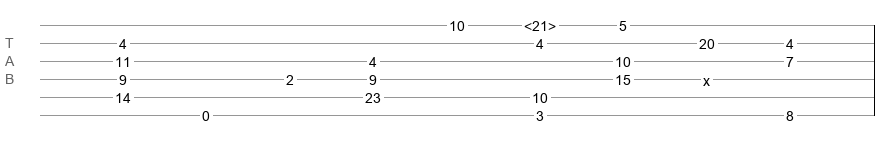0: (202, 108, 210, 118)
10: (449, 18, 465, 28), (532, 90, 548, 100), (615, 54, 631, 64)
11: (115, 54, 131, 64)
14: (115, 90, 131, 100)
15: (615, 72, 631, 82)
2: (286, 72, 294, 82)
20: (699, 36, 715, 46)
23: (365, 90, 381, 100)
3: (536, 108, 544, 118)
4: (119, 36, 127, 46), (369, 54, 377, 64), (536, 36, 544, 46), (786, 36, 794, 46)
5: (619, 18, 627, 28)
7: (786, 54, 794, 64)
8: (786, 108, 794, 118)
9: (119, 72, 127, 82), (369, 72, 377, 82)
harmonic: (524, 18, 556, 28)
x: (703, 73, 710, 81)
